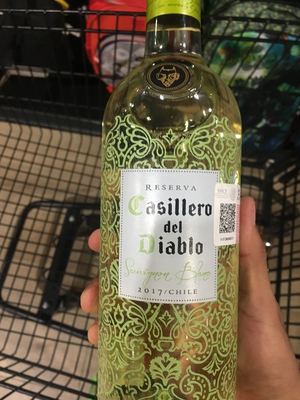casillero del diablo sauvignon blanc: (94, 12, 246, 400)
